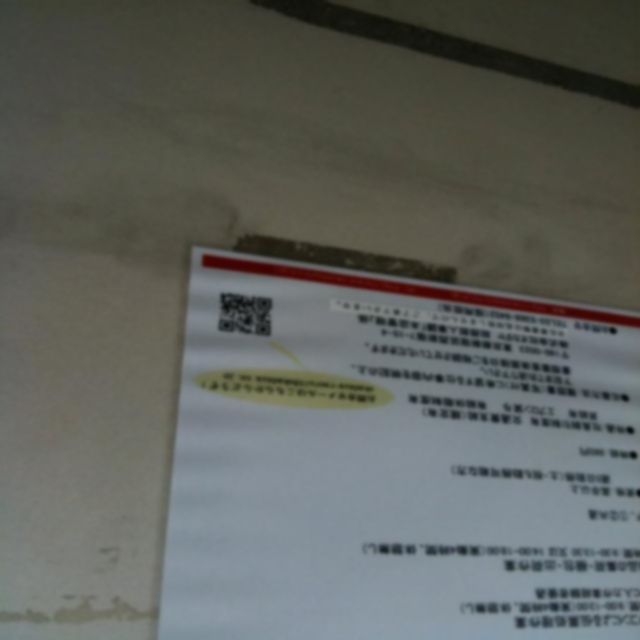qr-code: (219, 292, 272, 337)
